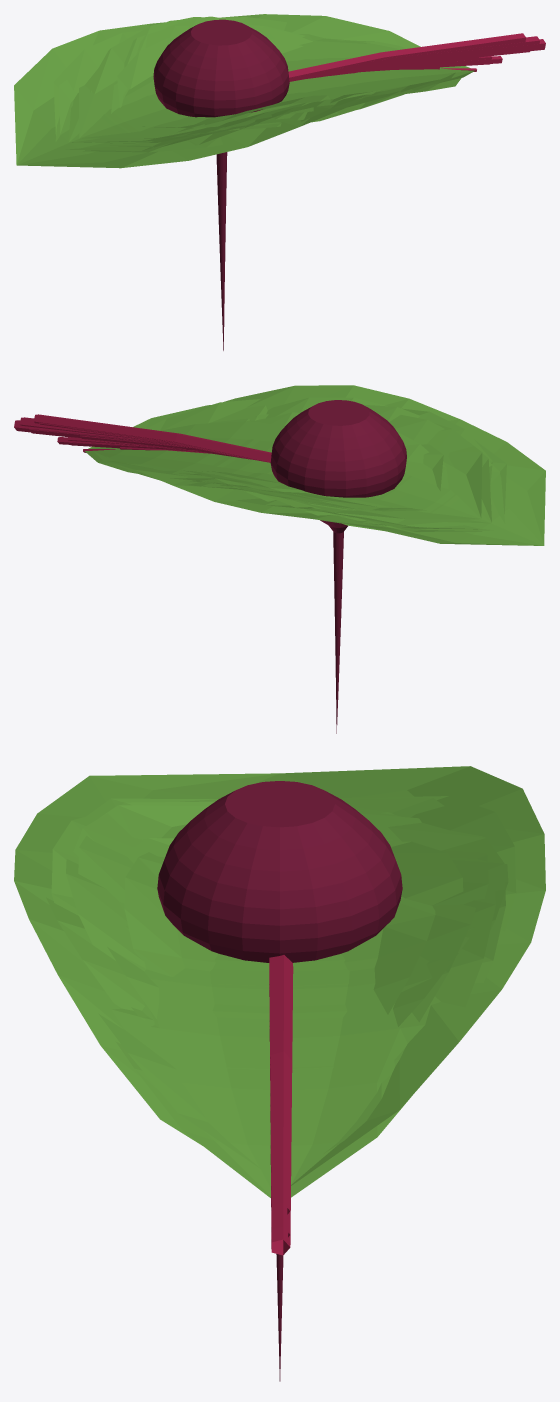
The model's file is beetroot_harvest_v04.articulated.glb.
The picture shows the model from 3 angles, top to bottom: view 1: azimuth 30°, elevation 25°; view 2: azimuth 150°, elevation 25°; view 3: azimuth 270°, elevation 25°; orthographic projection. The views are drawn at different scales.
Visible parts, largest first — view 1: leaf02_link2, root, leaf01_link2, leaf04_link2, leaf08_link2, leaf05_link2, leaf08_link0, leaf03_link2, leaf01_link0, leaf00_link2, leaf09_link2, leaf07_link2 (+3 smaller); view 2: root, leaf02_link2, leaf01_link2, leaf04_link2, leaf00_link2, leaf08_link0, leaf05_link2, leaf08_link2, leaf03_link2, leaf06_link2, leaf09_link2, leaf01_link0 (+2 smaller); view 3: leaf01_link2, leaf02_link2, root, leaf04_link2, leaf05_link2, leaf08_link2, leaf09_link2, leaf08_link0, leaf00_link2, leaf03_link2, leaf06_link2, leaf07_link2.
Part boxes in pixels (x1,y1,x2,y2): leaf02_link2: [14, 14, 461, 168]; root: [153, 19, 289, 350]; leaf01_link2: [68, 17, 476, 142]; leaf04_link2: [79, 17, 455, 138]; leaf08_link2: [53, 30, 380, 152]; leaf05_link2: [111, 38, 330, 132]; leaf08_link0: [288, 33, 525, 78]; leaf03_link2: [117, 37, 372, 128]; leaf01_link0: [289, 39, 545, 81]; leaf00_link2: [55, 25, 313, 151]; leaf09_link2: [59, 24, 340, 145]; leaf07_link2: [110, 25, 380, 143]; root: [270, 400, 406, 733]; leaf02_link2: [94, 385, 545, 545]; leaf01_link2: [83, 405, 491, 527]; leaf04_link2: [106, 399, 482, 525]; leaf00_link2: [179, 415, 505, 532]; leaf08_link0: [33, 414, 271, 462]; leaf05_link2: [202, 432, 448, 511]; leaf08_link2: [236, 397, 506, 531]; leaf03_link2: [239, 412, 443, 510]; leaf06_link2: [190, 408, 492, 530]; leaf09_link2: [183, 404, 477, 529]; leaf01_link0: [14, 420, 251, 459]; leaf01_link2: [73, 801, 495, 1197]; leaf02_link2: [14, 766, 545, 1185]; root: [157, 781, 402, 1381]; leaf04_link2: [81, 805, 505, 1168]; leaf05_link2: [124, 838, 435, 1014]; leaf08_link2: [46, 796, 516, 1010]; leaf09_link2: [66, 798, 469, 1026]; leaf08_link0: [269, 955, 293, 1214]; leaf00_link2: [78, 799, 475, 1022]; leaf03_link2: [107, 838, 463, 1018]; leaf06_link2: [51, 810, 508, 930]; leaf07_link2: [131, 850, 488, 1022].
Bounding box in the file's own units: 0.236 × 0.1389 × 0.1151.
1 material, 1 textured.
